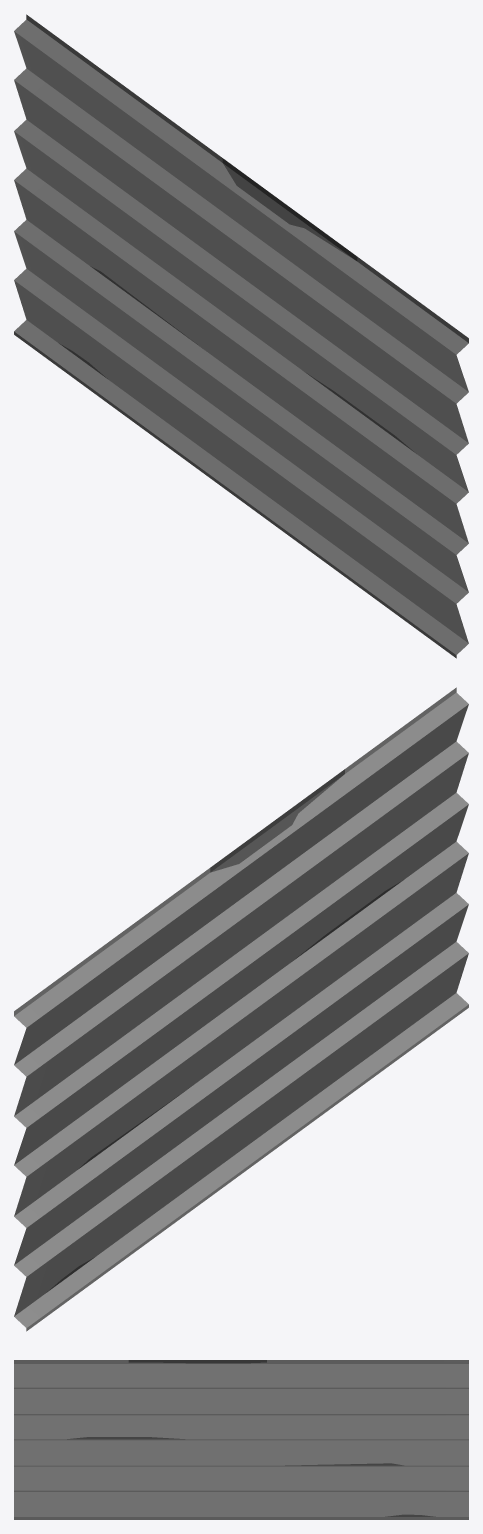
The model's file is builder_19.FBX.
The picture shows the model from 3 angles, top to bottom: view 1: azimuth 30°, elevation 25°; view 2: azimuth 150°, elevation 25°; view 3: azimuth 270°, elevation 25°; orthographic projection. The views are drawn at different scales.
Parts seen in each view (by area): view 1: builder_19; view 2: builder_19; view 3: builder_19.
Boxes of the visible parts, x1,y1,x2,y2 form: builder_19: [14, 14, 468, 658]; builder_19: [14, 687, 468, 1331]; builder_19: [14, 1360, 468, 1519].
Size of the model in its own units: 2.1 by 50.87 by 129.
